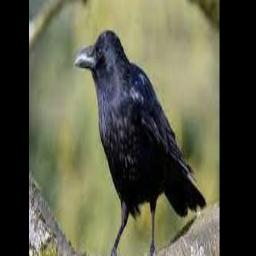Crow: (74, 30, 206, 256)
